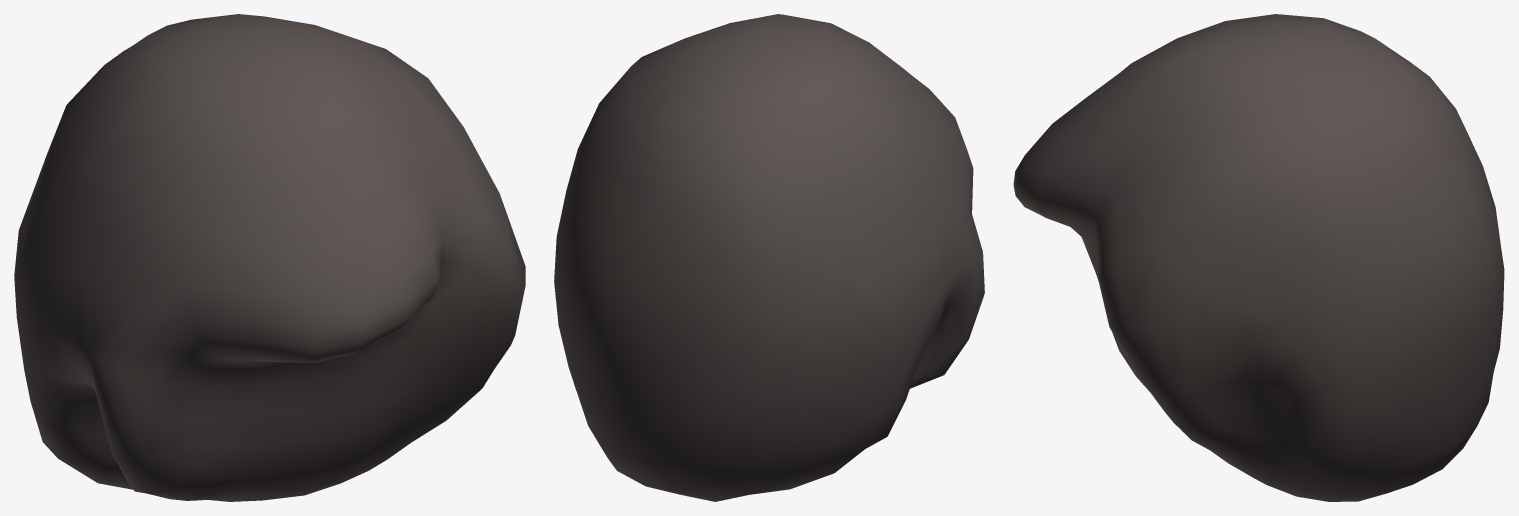
Rendered from hairstyle_male_012.glb.
3 views of the same model, side by side, from view 1: azimuth 30°, elevation 25°; view 2: azimuth 150°, elevation 25°; view 3: azimuth 270°, elevation 25° (orthographic). The views are drawn at different scales.
Parts seen in each view (by area): view 1: Hairstyle_male_012; view 2: Hairstyle_male_012; view 3: Hairstyle_male_012.
Part boxes in pixels (<box>): Hairstyle_male_012: <box>14,14,525,501</box>; Hairstyle_male_012: <box>554,14,984,501</box>; Hairstyle_male_012: <box>1013,14,1504,501</box>.
Bounding box in the file's own units: 0.2687 × 0.2962 × 0.3089.
1 material, 1 textured.
